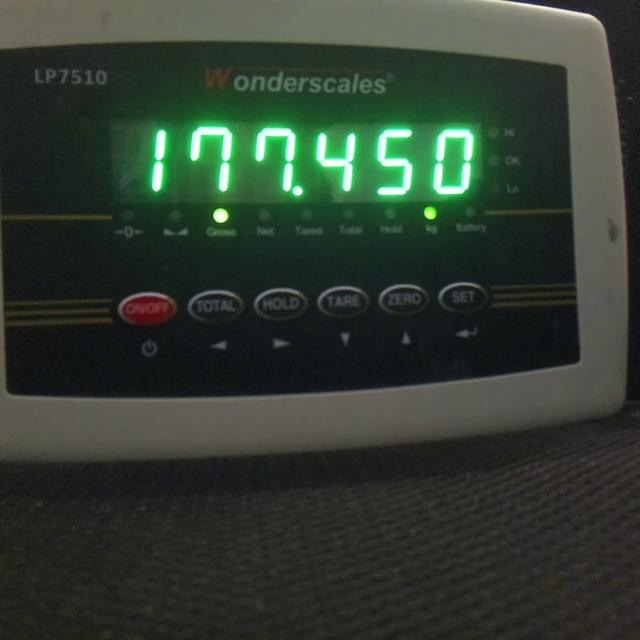.: (290, 184, 304, 197)
0: (433, 128, 474, 194)
1: (151, 129, 167, 192)
4: (315, 131, 356, 194)
5: (375, 128, 414, 196)
7: (189, 125, 233, 192), (255, 127, 298, 193)
